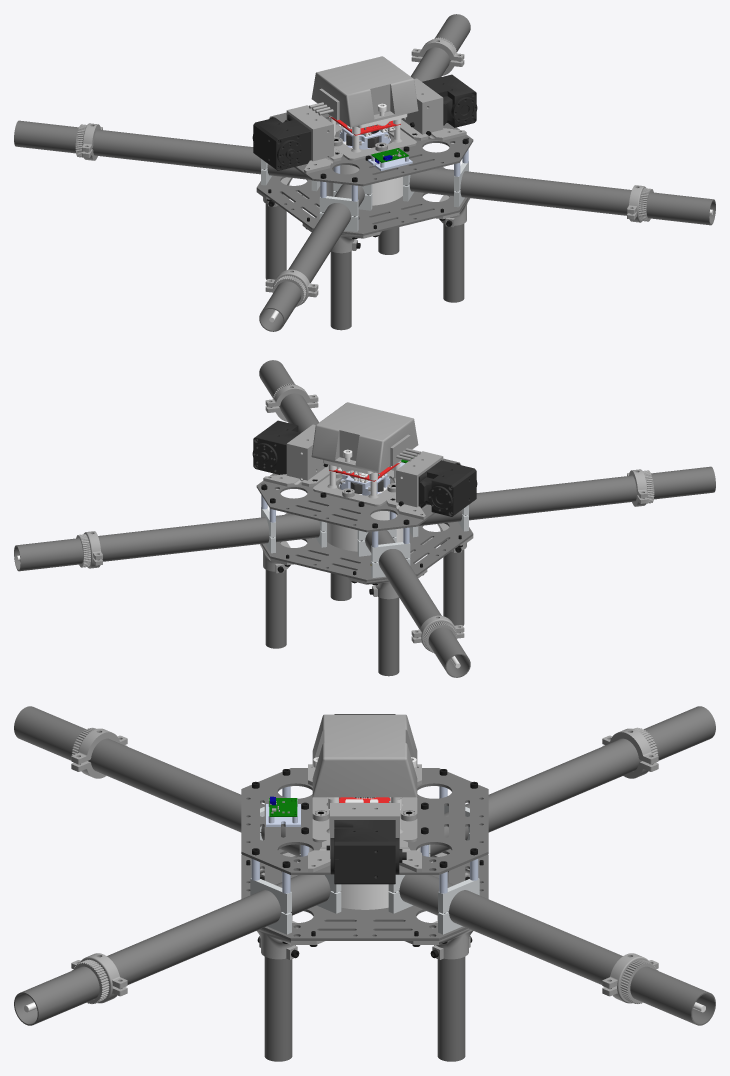
File: main_body.dae
3 renders of one model, top to bottom at view 1: azimuth 30°, elevation 25°; view 2: azimuth 150°, elevation 25°; view 3: azimuth 270°, elevation 25°, orthographic. The views are drawn at different scales.
Visible parts, largest first — view 1: node2, node3, node7, node5, node4, node8; view 2: node2, node3, node7, node5, node4, node8; view 3: node2, node3, node7, node4, node5, node8, node1.
Boxes of the visible parts, x1,y1,x2,y2 form: node2: [14, 14, 715, 331]; node3: [75, 37, 653, 307]; node7: [252, 74, 477, 170]; node5: [269, 103, 713, 322]; node4: [261, 159, 468, 231]; node8: [320, 128, 468, 201]; node2: [14, 360, 715, 677]; node3: [76, 383, 654, 653]; node7: [252, 420, 477, 516]; node5: [16, 449, 460, 668]; node4: [261, 505, 468, 577]; node8: [261, 462, 409, 547]; node2: [14, 706, 715, 1061]; node3: [71, 714, 658, 1003]; node7: [330, 714, 406, 884]; node4: [250, 805, 479, 934]; node5: [24, 757, 705, 1012]; node8: [251, 786, 478, 893]; node1: [246, 769, 483, 958].
Size of the model in its own units: 0.502 by 0.502 by 0.2235.
